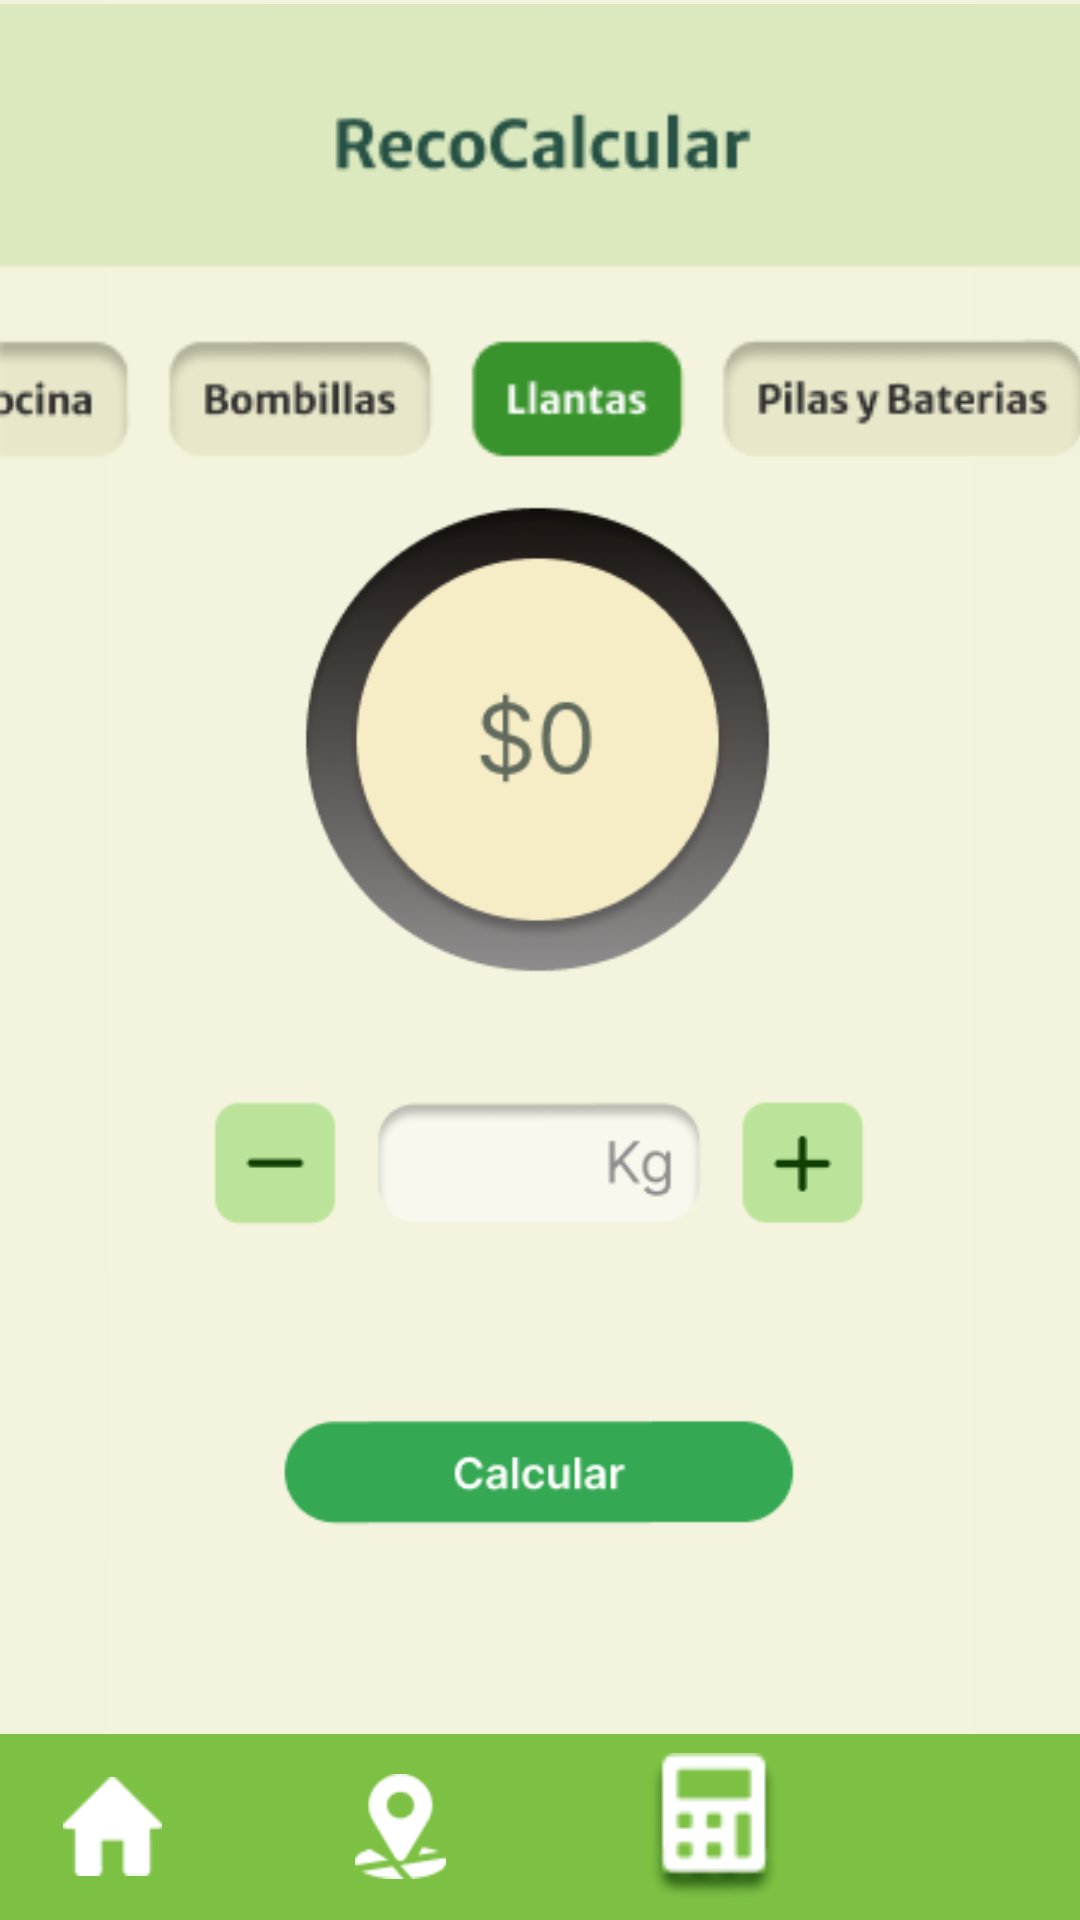

Where icons sit on this 1080x1920 app screen, as Rect(x1, y1, x2, y2):
calculator: Rect(658, 1753, 770, 1890)
